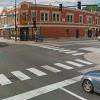Crosswalk: (3, 61, 78, 92)
